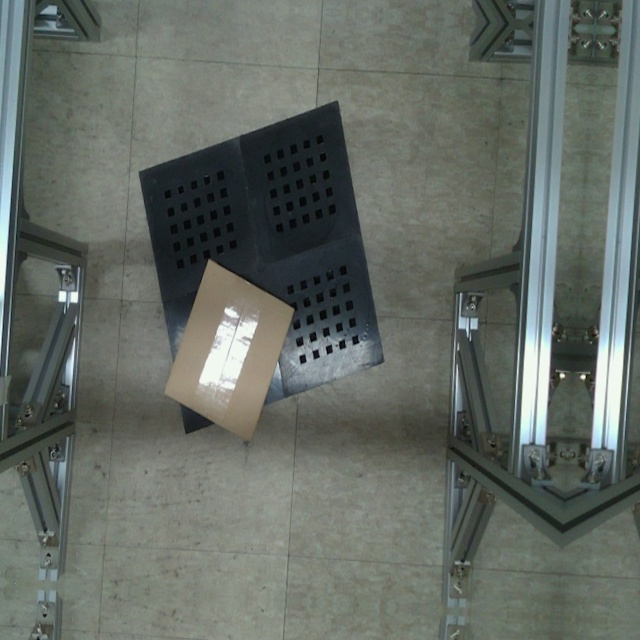box: (158, 251, 299, 449)
pallet: (117, 84, 406, 451)
